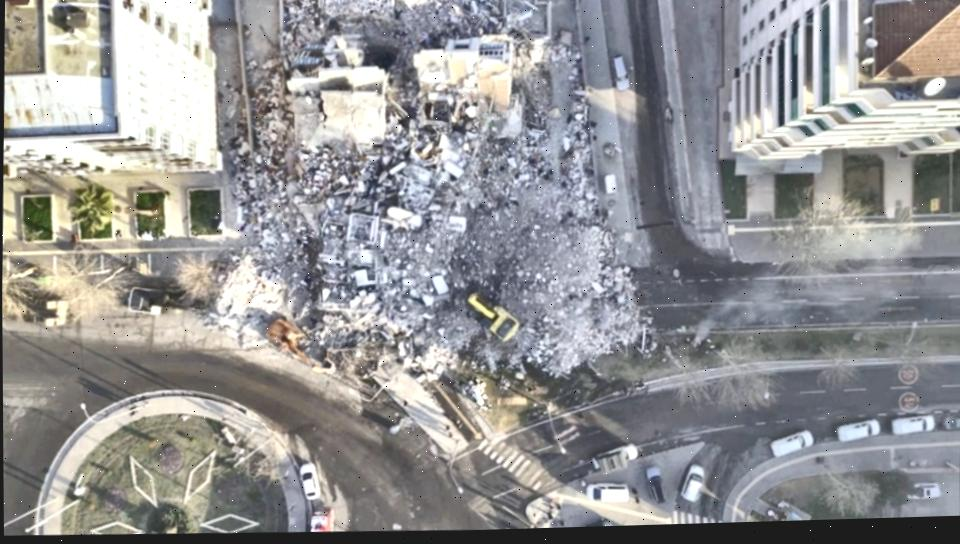kapali: (284, 279, 713, 340)
